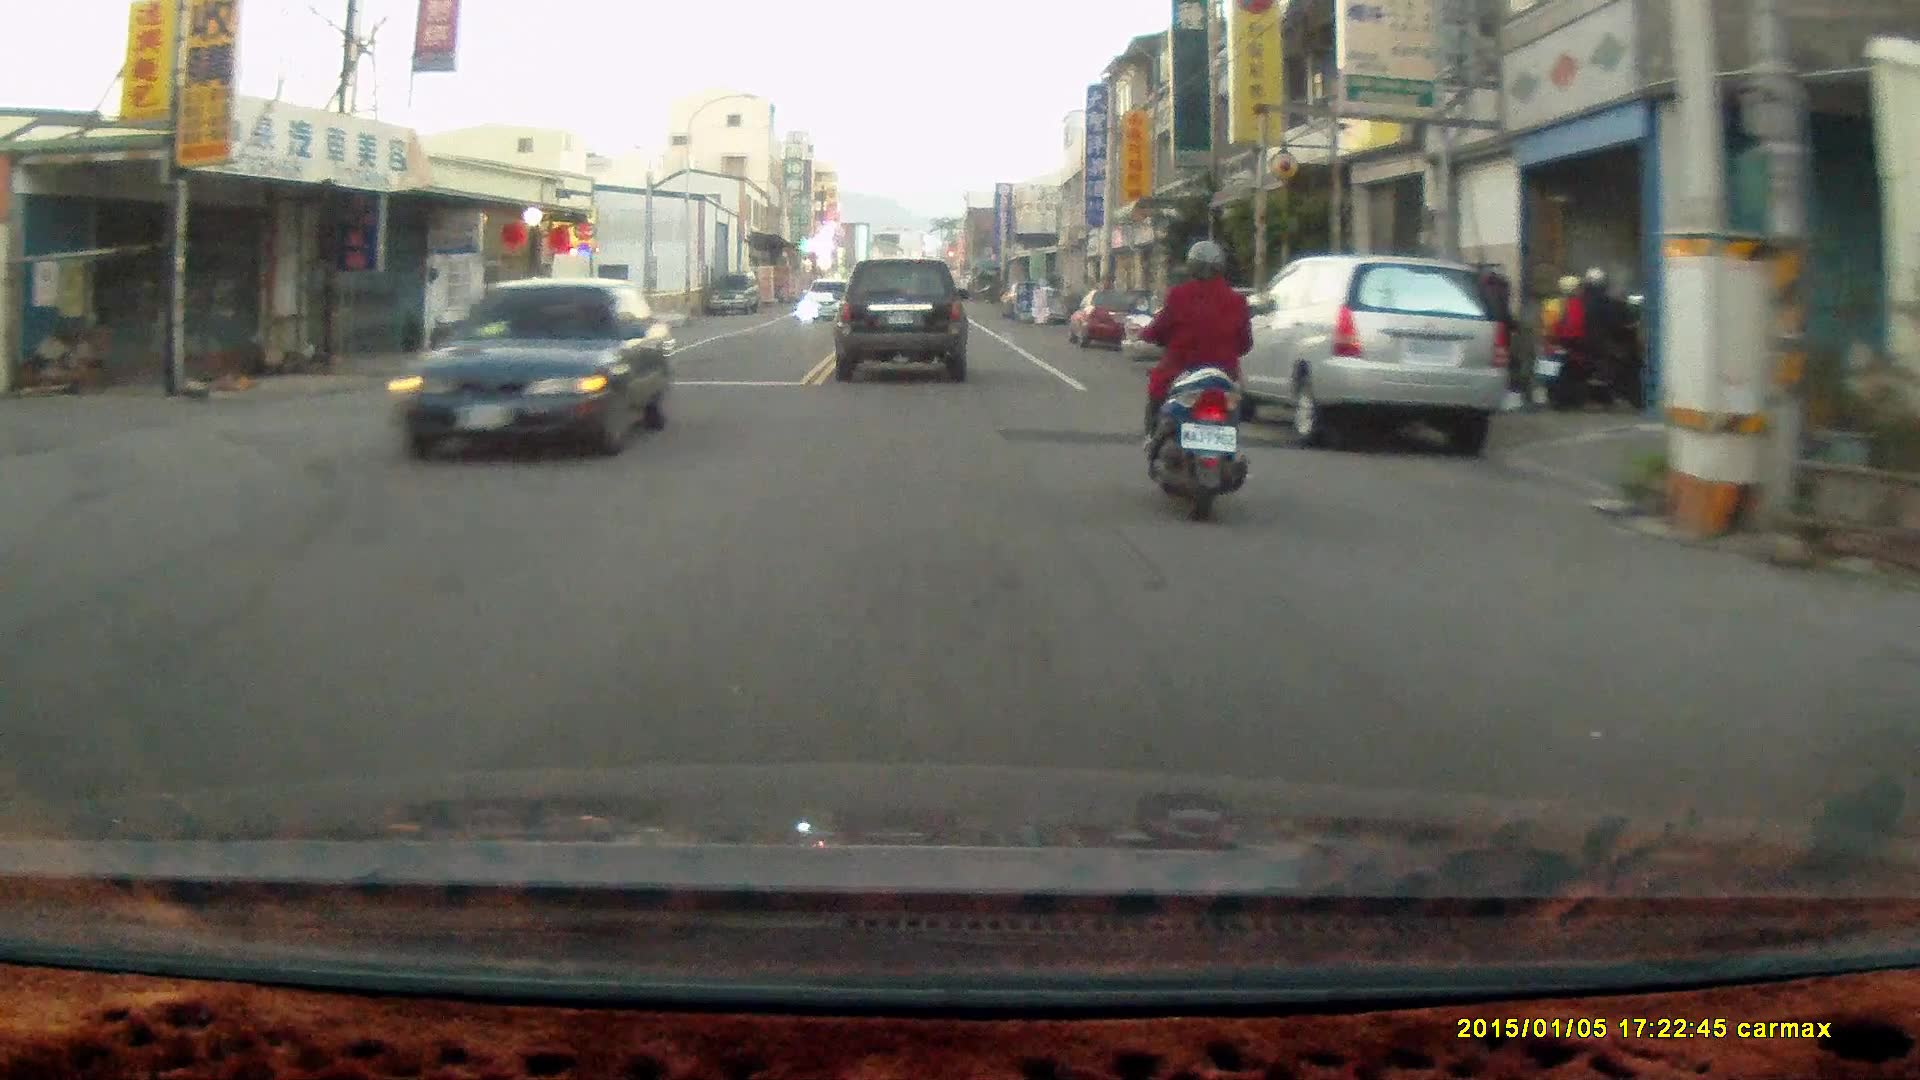rider: (1132, 238, 1250, 524), (1537, 258, 1639, 411)
vehicle: (1223, 258, 1505, 452), (395, 277, 674, 464), (833, 259, 971, 386), (1070, 289, 1148, 351)
